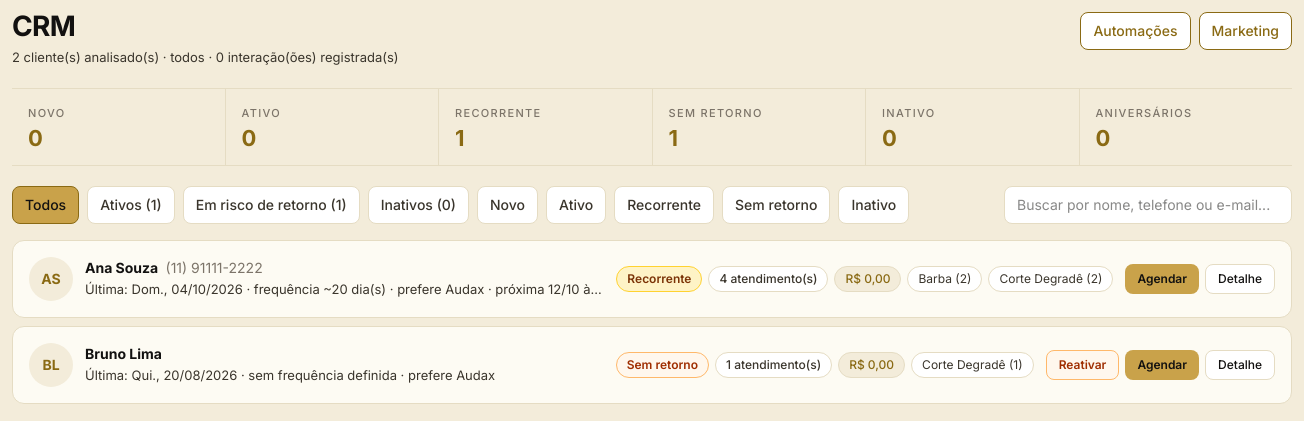
Scenario: CRM — segmentação com dados reais › busca por nome filtra a lista
The width and height of the screenshot is (1304, 421).
In the field named "Buscar cliente": (1148, 205) [1004, 186, 1292, 224], type "Bruno"
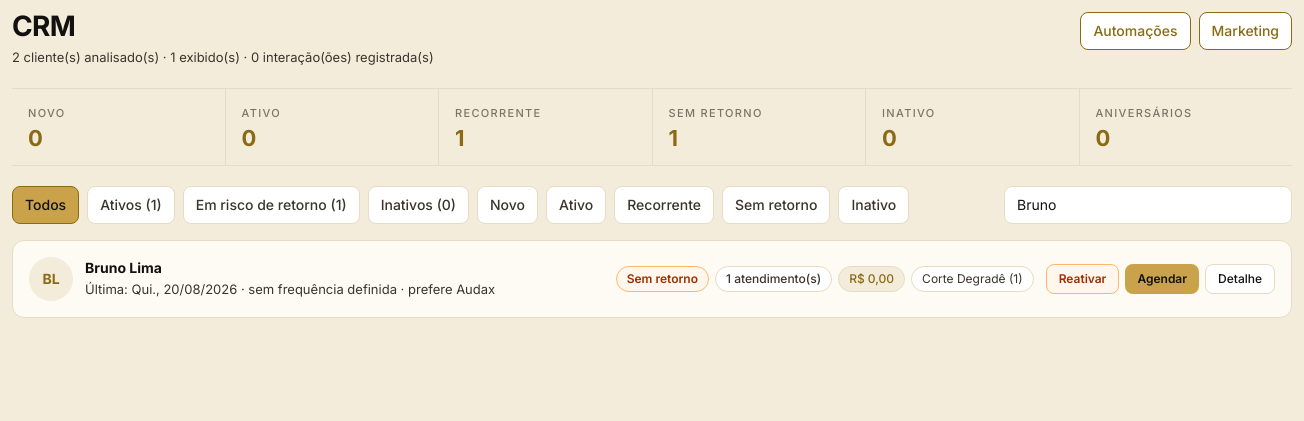
Expected: the text "Bruno Lima" is shown, [85, 259, 162, 276]
Expected: the text "Ana Souza" is gone
Expected: the text "1 exibido(s)" is shown, [170, 49, 240, 65]
